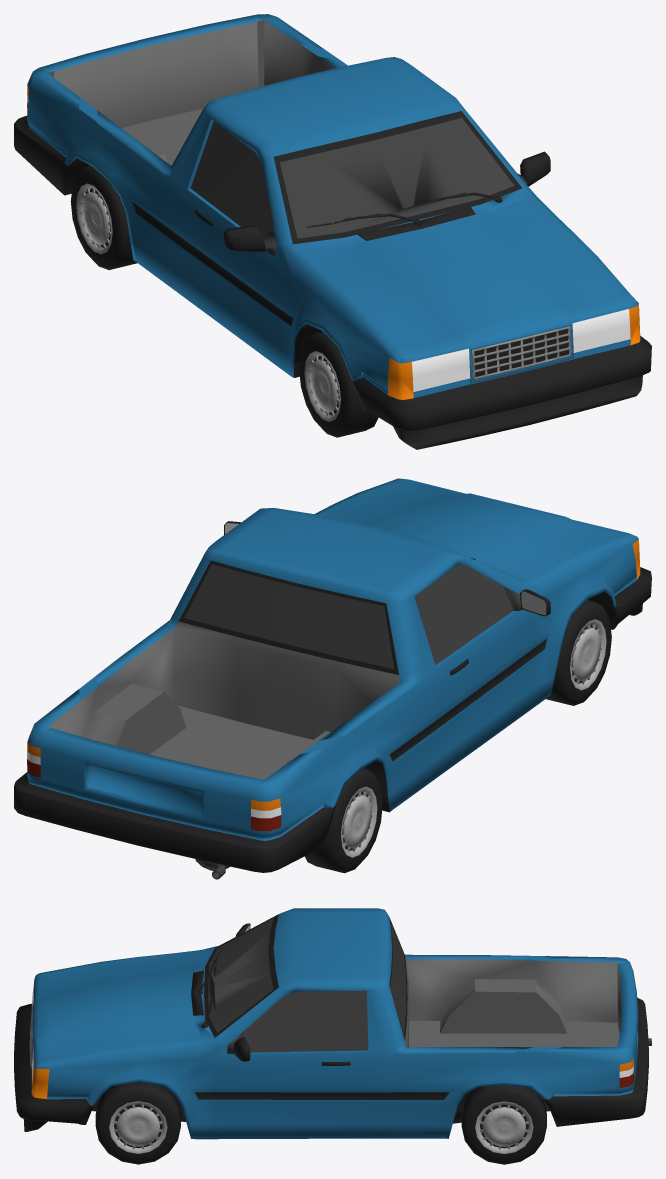
3 views of the same model, one above another, from view 1: azimuth 30°, elevation 25°; view 2: azimuth 150°, elevation 25°; view 3: azimuth 270°, elevation 25° (orthographic). The views are drawn at different scales.
Parts seen in each view (by area): view 1: 5_palette_0; view 2: 5_palette_0; view 3: 5_palette_0.
Boxes of the visible parts, x1,y1,x2,y2 form: 5_palette_0: (14,14,651,449); 5_palette_0: (14,478,651,879); 5_palette_0: (14,908,651,1164).
Bounding box in the file's own units: 2.13 × 1.34 × 4.54.
Materials: 1 (1 with a texture image).
